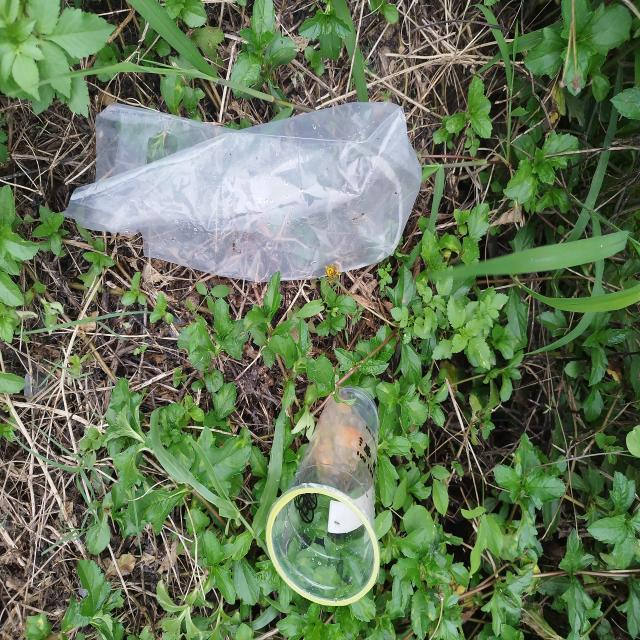bag: (64, 99, 422, 283)
plastic glass: (265, 387, 380, 605)
